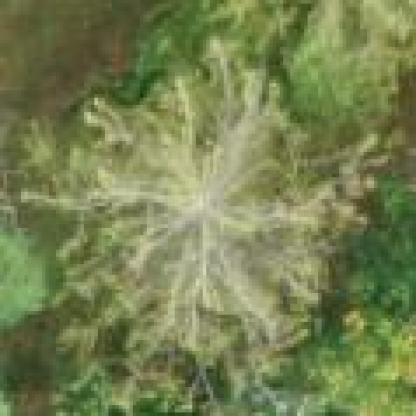Coniferous Tree: (26, 53, 372, 367)
